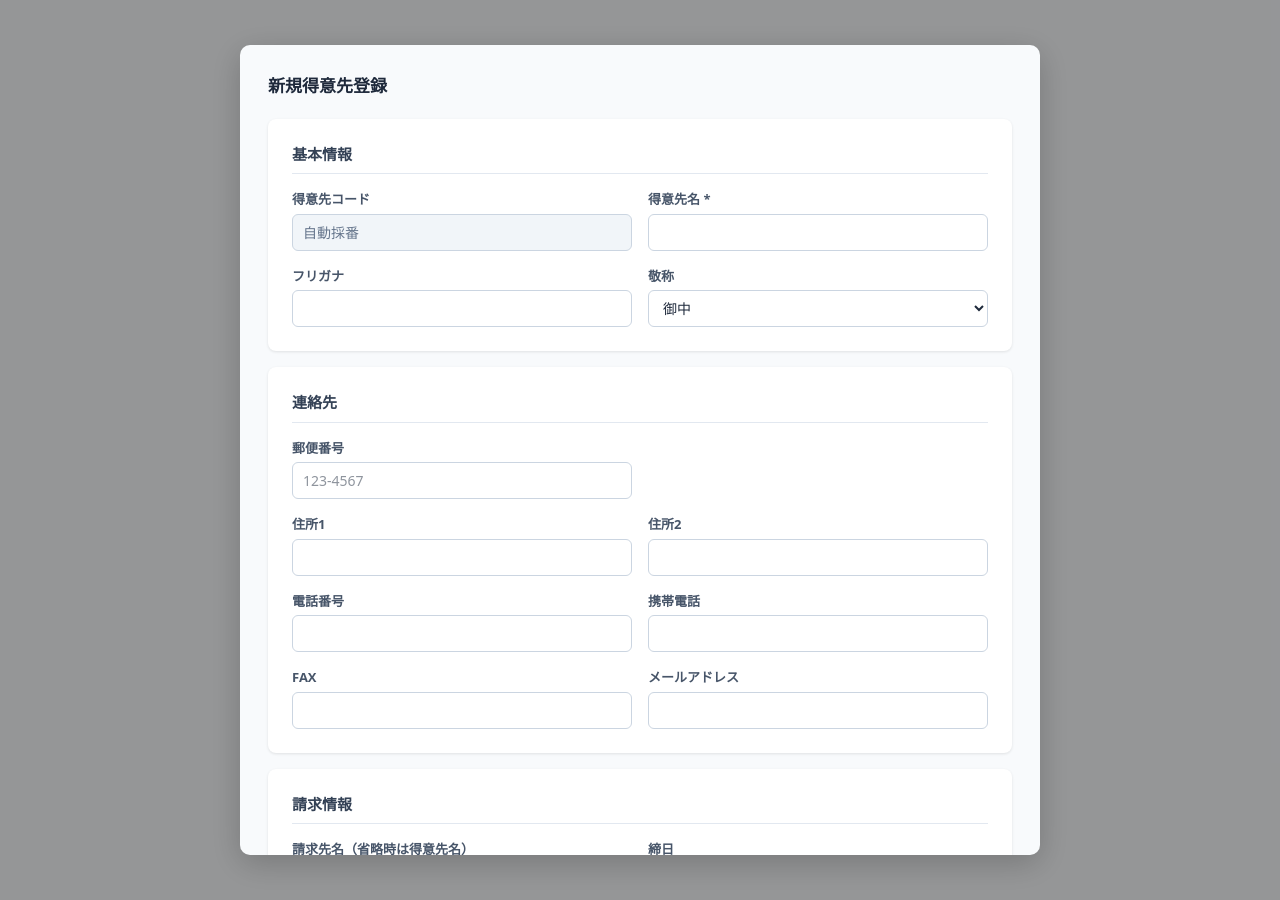
R-0179 似た得意先の案内 › 新規得意先モーダルでも案内を表示し、案内と一覧で候補APIを1回だけ呼ぶ
Type "山田工務店" into the field named "name" below "得意先名 *" at (818, 232), box [648,214,988,250]
(page scrolled)
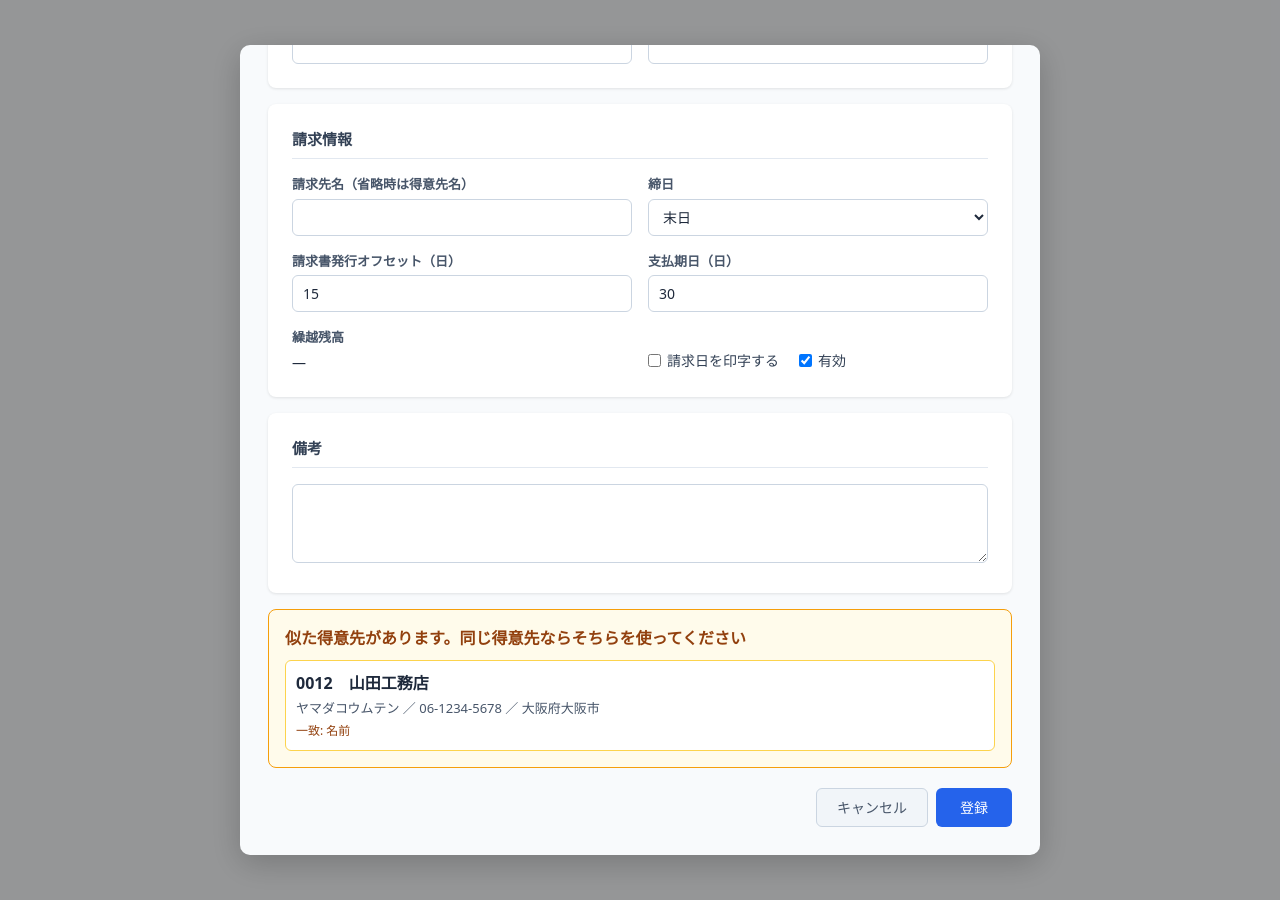
Check: the text "似た得意先があります。同じ得意先ならそちらを使ってください" is shown, box [285,627,746,649]
